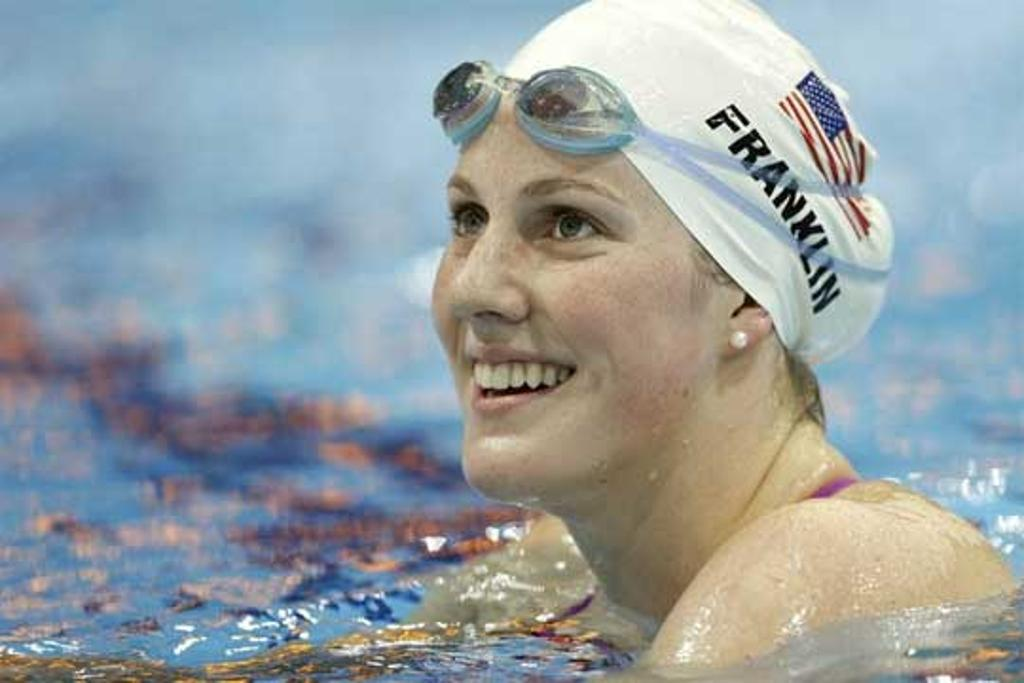face: (434, 132, 696, 492)
